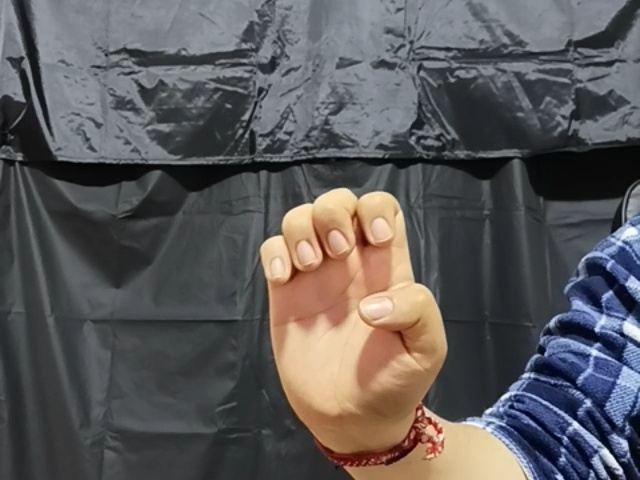E: (255, 185, 451, 447)
